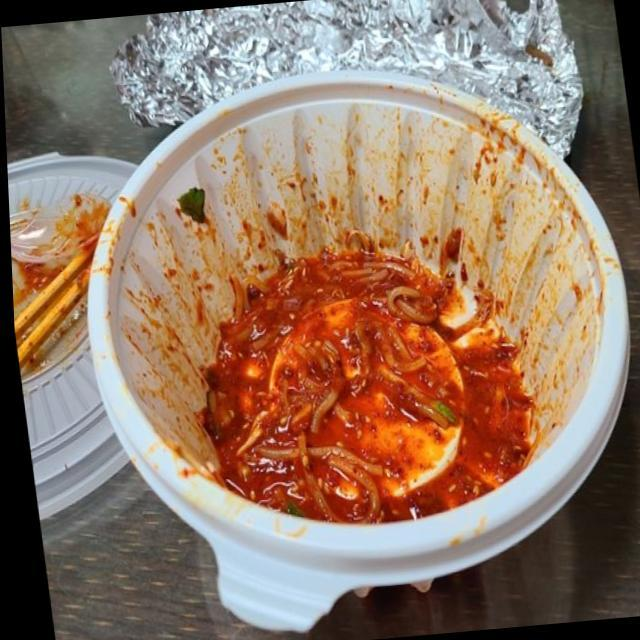bottle: (74, 56, 640, 640)
